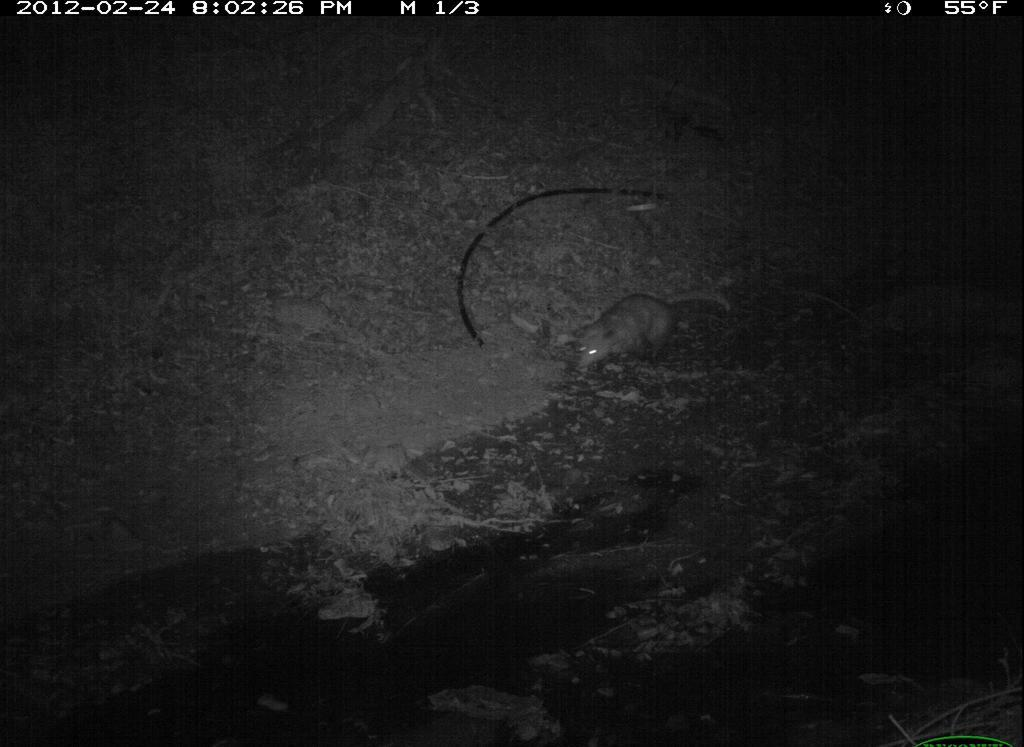opossum: (571, 290, 731, 382)
